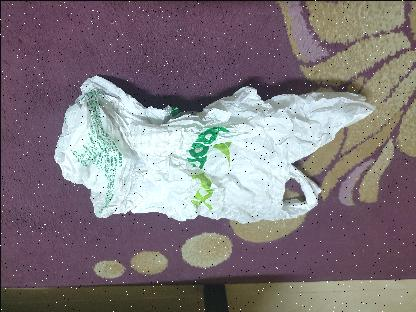Others: (44, 69, 374, 227)
